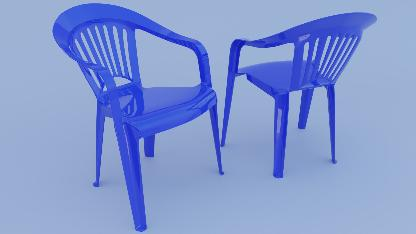chair: (46, 1, 225, 211), (222, 5, 379, 174)
